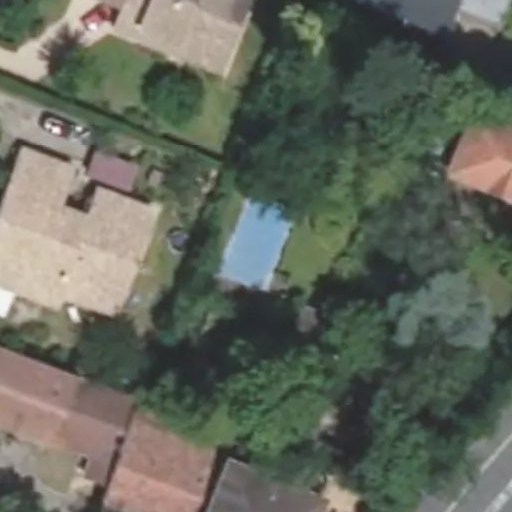pool: (215, 197, 295, 292)
